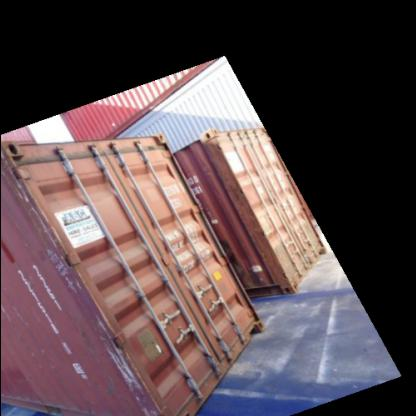Damage: (105, 330, 144, 400), (40, 231, 84, 289), (10, 301, 29, 327), (1, 287, 9, 329), (26, 348, 52, 358)
